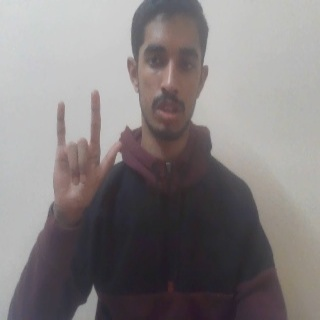Face: (126, 3, 211, 140)
I Love You: (46, 89, 124, 225)
